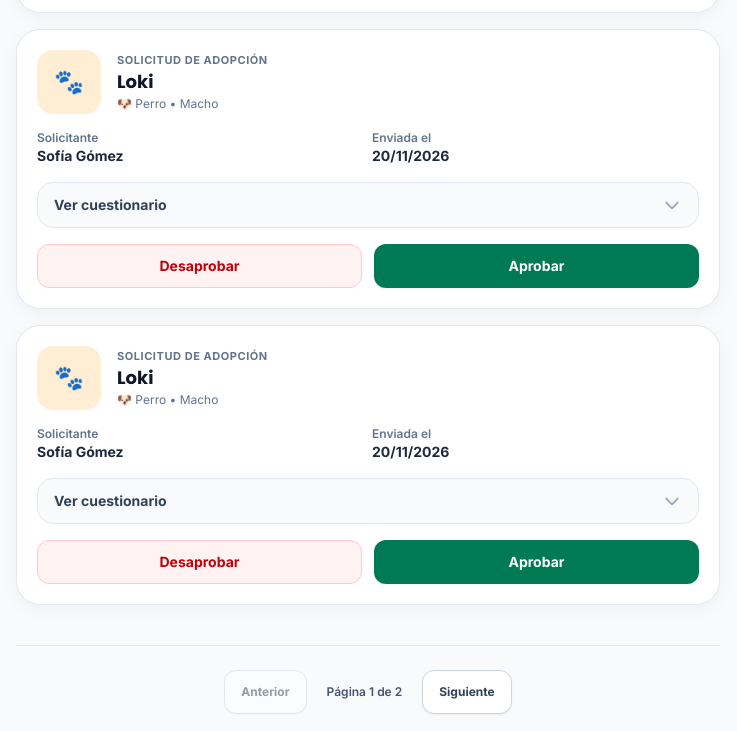
Test: StaffPanel › pagina de a 12 solicitudes
This screenshot has width=737, height=731.
(page scrolled)
Expected: the text "Página 1 de 2" is shown, [327,684,402,699]
Expected: the button "Anterior" is disabled, [224,670,307,714]
Step 1. Click the button "Siguiente" → point(467, 692), box [422,670,512,714]
(page scrolled)
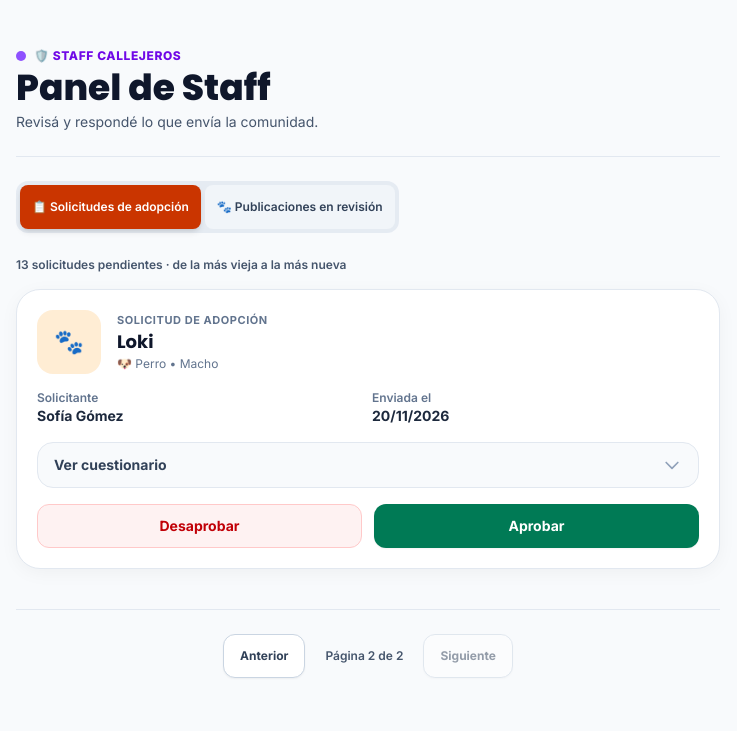
Expected: the text "Página 2 de 2" is shown, [325,648,403,663]
